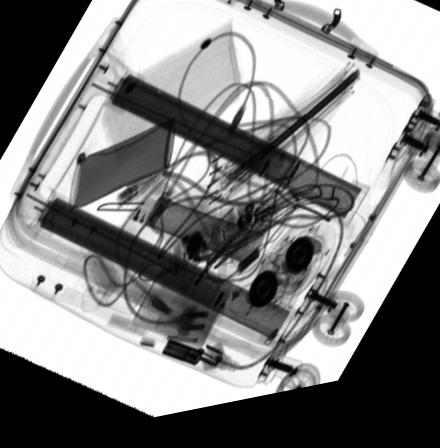Lighter: (161, 346, 202, 374)
